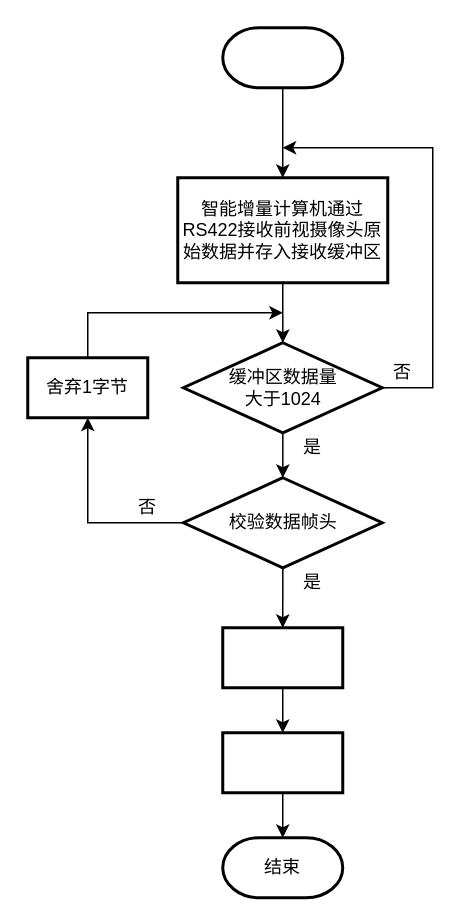
The diagram is 471 pixels wide and 924 high, and some of its shapes have lost their labels. Here are the shapes that lost their labels. From the top down, the centre of each, then its label:
At [282,57]: "开始".
At [282,657]: "在数据帧前添加额外帧头".
At [282,762]: "将数据添加至发送缓冲区".
